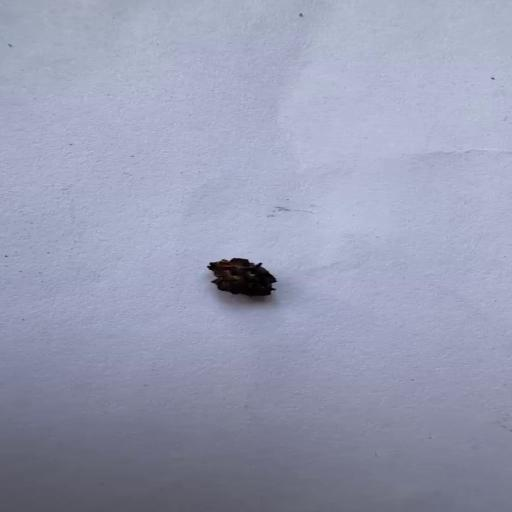papaya_seed: (204, 256, 278, 299)
